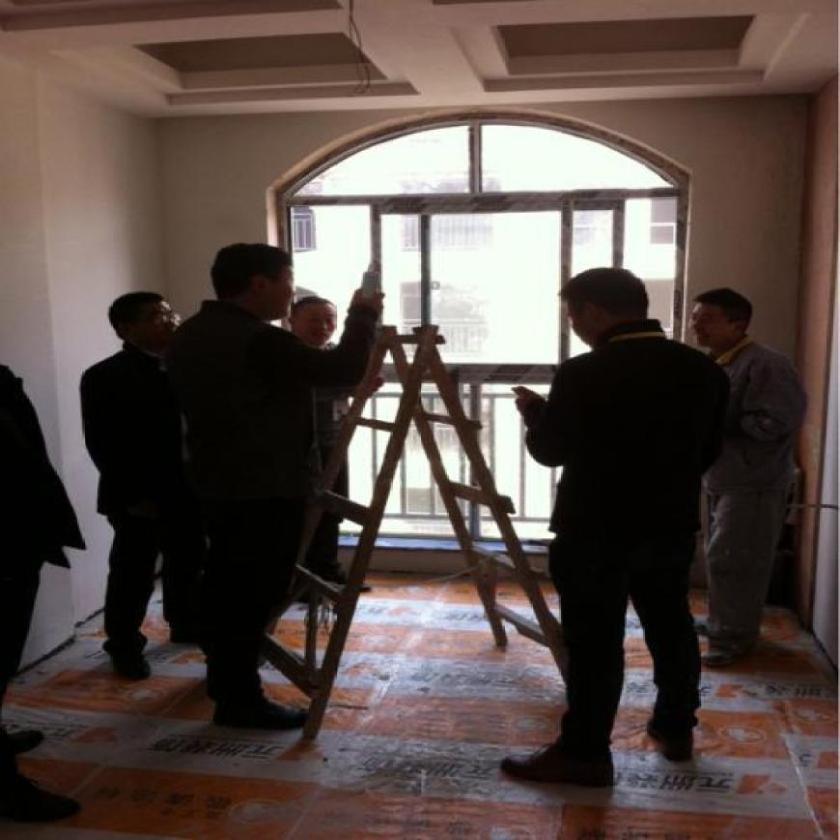Sin_casco: (552, 263, 651, 359), (210, 240, 292, 321), (106, 291, 184, 363), (693, 288, 759, 360), (288, 299, 340, 352)
